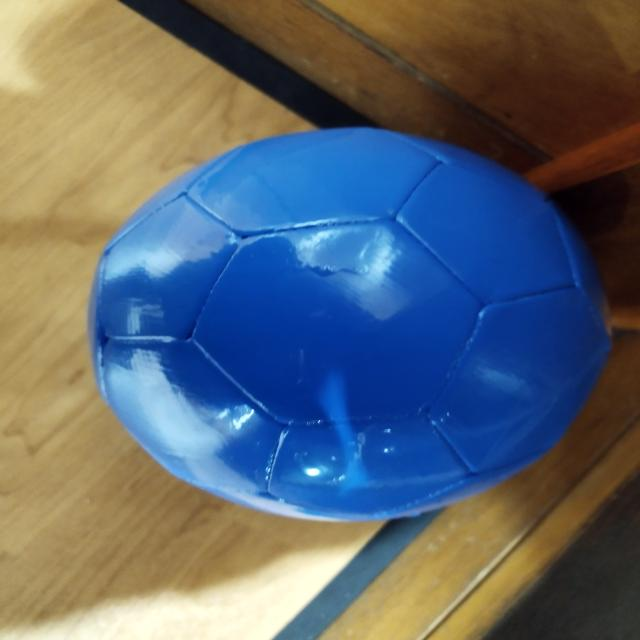blue_ball: (86, 123, 604, 524)
